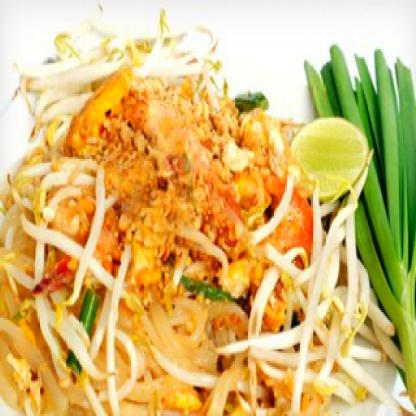Pad Thai: (0, 18, 414, 414)
